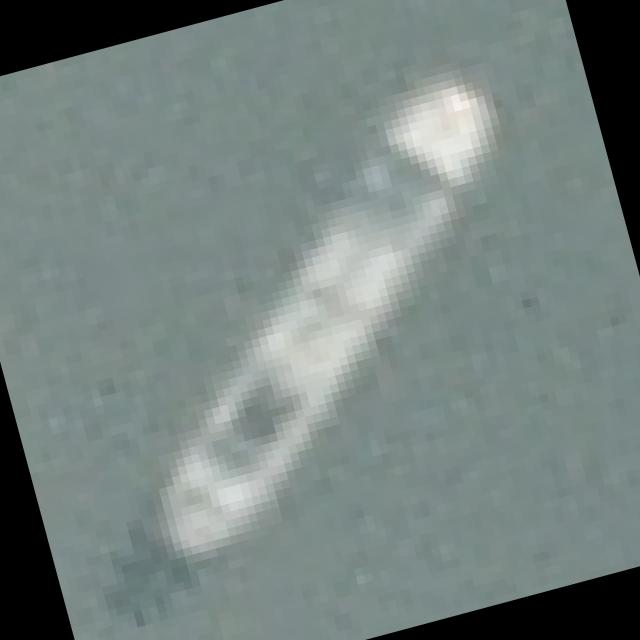ship: (21, 26, 618, 608)
